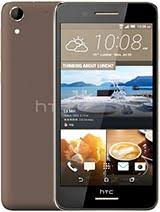htc: (54, 1, 160, 212), (1, 1, 57, 212)
